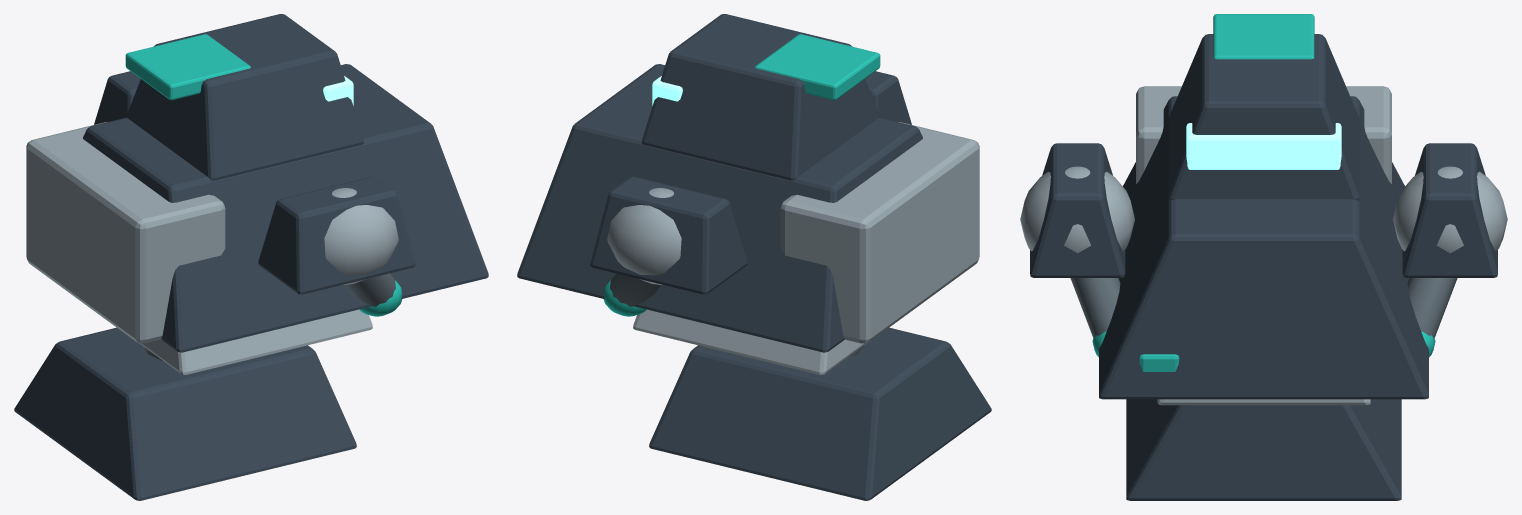
File: SM_Ember_Body.fbx
The picture shows the model from 3 angles, left to right: view 1: azimuth 30°, elevation 25°; view 2: azimuth 150°, elevation 25°; view 3: azimuth 270°, elevation 25°; orthographic projection. The views are drawn at different scales.
Visible parts, largest first — view 1: SM_Ember_Body; view 2: SM_Ember_Body; view 3: SM_Ember_Body.
Boxes of the visible parts, bbox=[...] form: SM_Ember_Body: bbox=[14, 14, 488, 500]; SM_Ember_Body: bbox=[517, 14, 991, 500]; SM_Ember_Body: bbox=[1020, 14, 1507, 500].
Size of the model in its own units: 27.63 by 30.85 by 28.59.
